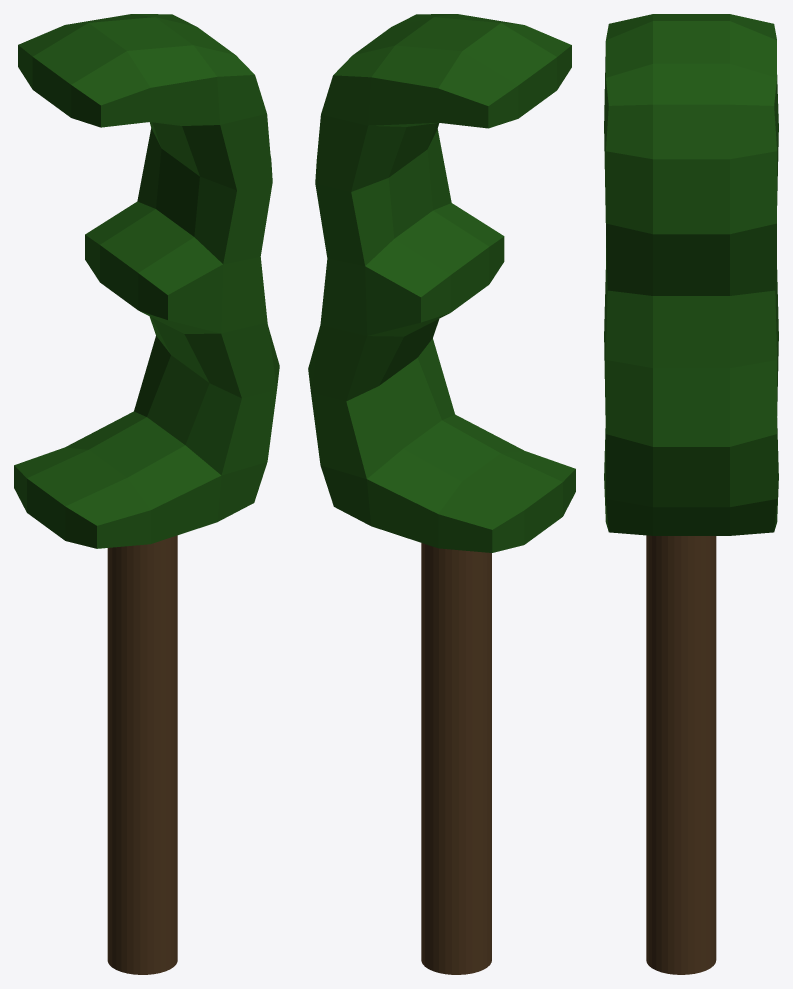
3 views of the same model, side by side, from view 1: azimuth 30°, elevation 25°; view 2: azimuth 150°, elevation 25°; view 3: azimuth 270°, elevation 25° (orthographic).
Visible parts, largest first — view 1: Text, Cylinder.001; view 2: Text, Cylinder.001; view 3: Text, Cylinder.001.
Part boxes in pixels (x1,y1,x2,y2): Text: [14, 14, 279, 548]; Cylinder.001: [107, 535, 177, 974]; Text: [308, 14, 575, 552]; Cylinder.001: [421, 543, 491, 974]; Text: [604, 14, 778, 535]; Cylinder.001: [646, 535, 716, 974].
Size of the model in its own units: 206 by 850 by 146.
